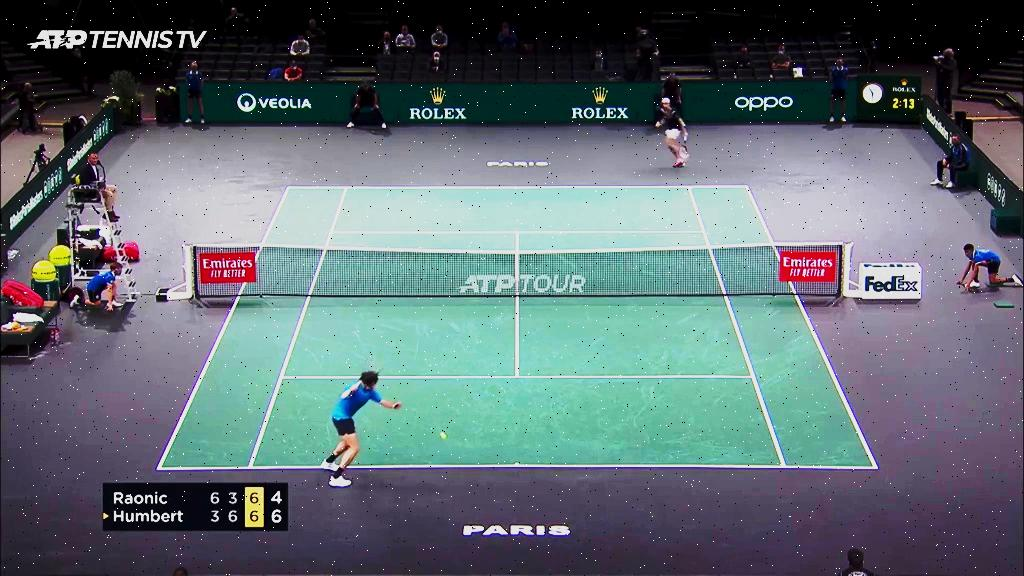tennis-court: (156, 186, 879, 469)
